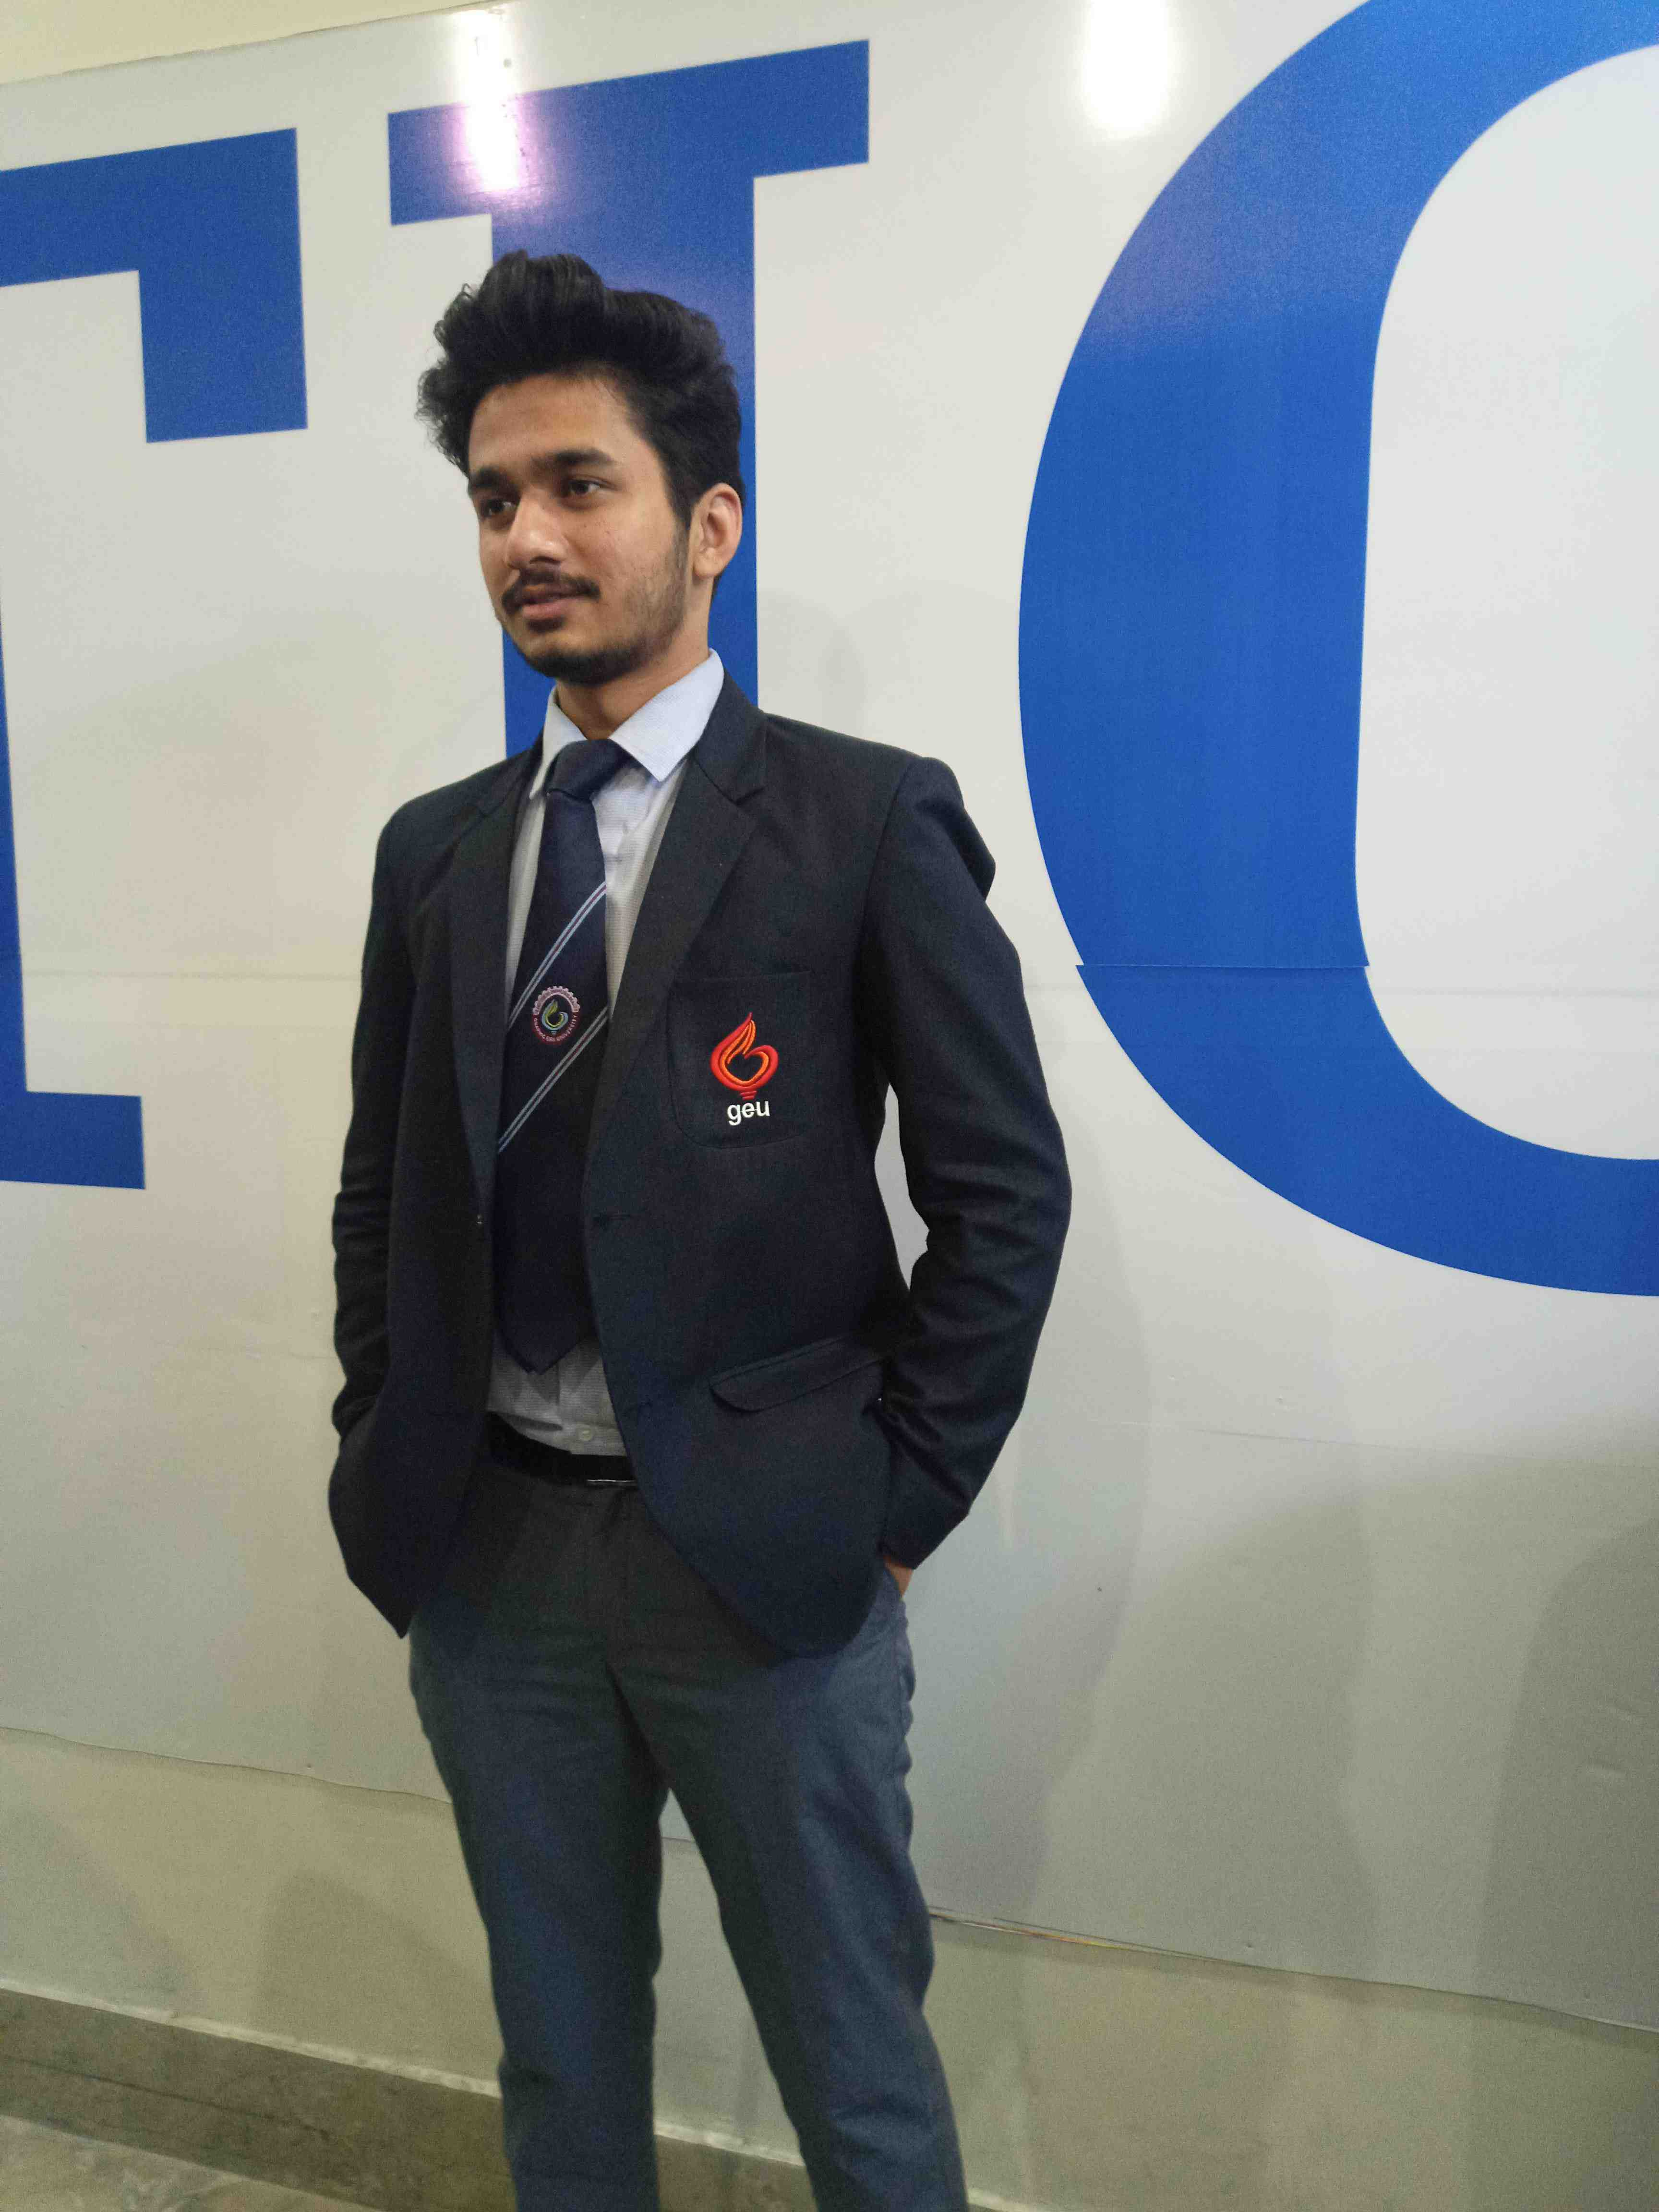blazer: (328, 695, 1066, 1642)
pant: (389, 1461, 938, 2202)
tie: (497, 723, 671, 1433)
